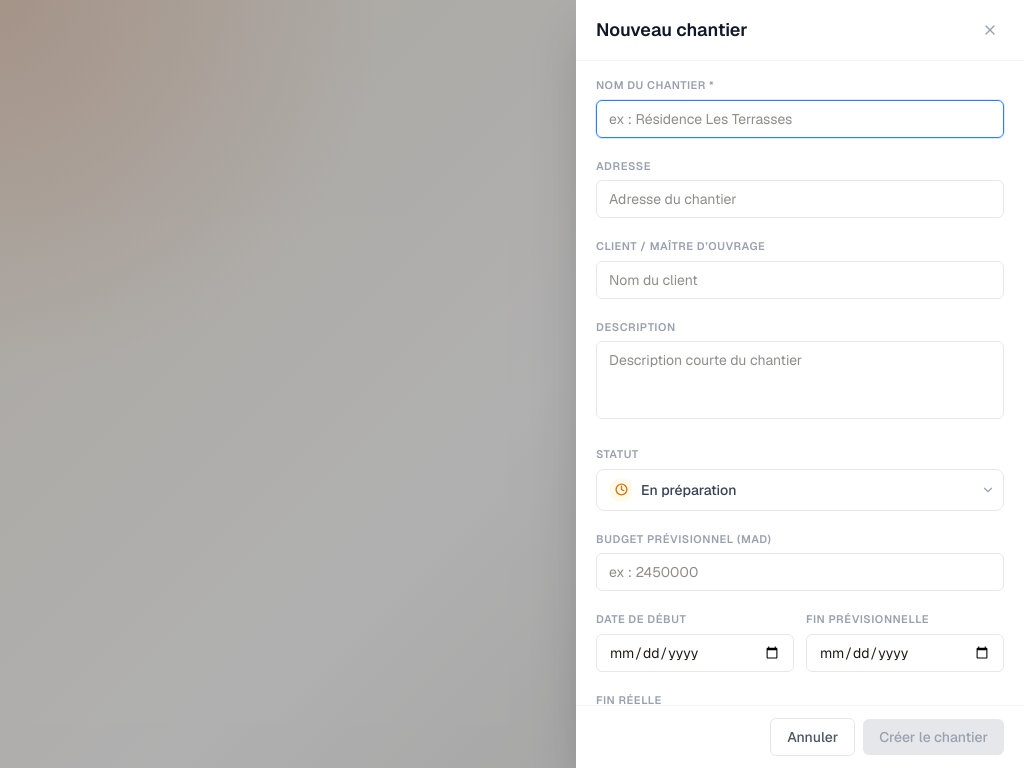
Test case: ProjectHubFormPanel — error handling › shows a generic message for a non-ApiError failure
The width and height of the screenshot is (1024, 768).
Type "Site" into the field with placeholder "ex : Résidence Les Terrasses" at (800, 118), box [596,100,1004,138]
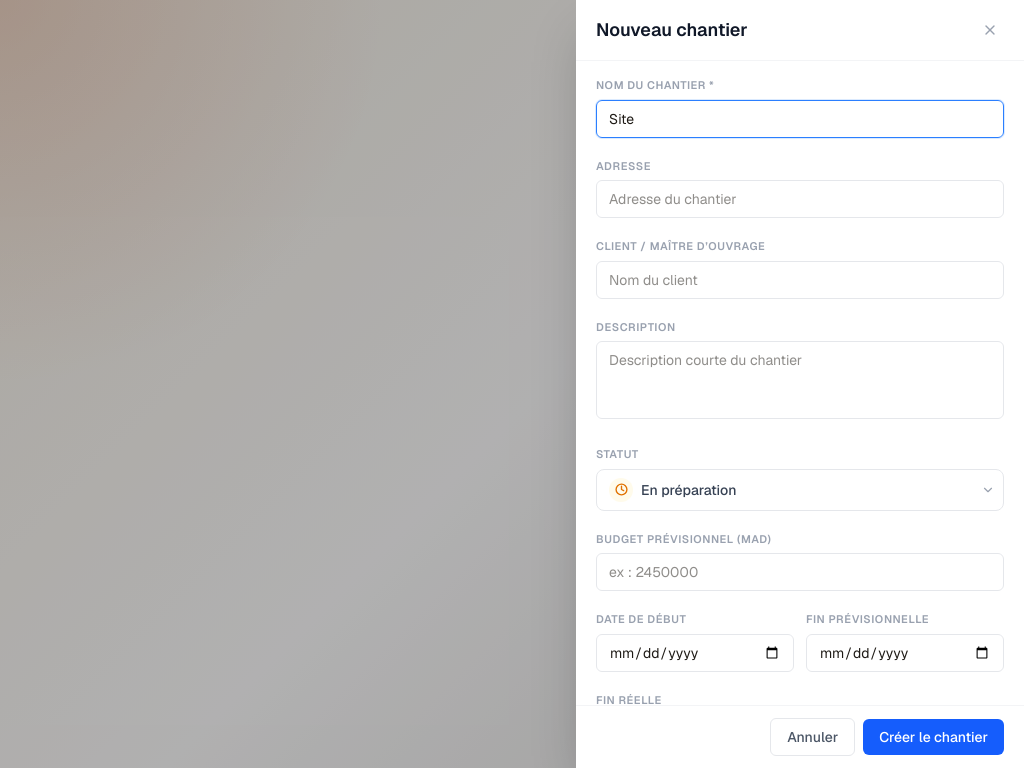
Click the button "Créer le chantier" at (934, 737), box [863,719,1004,755]
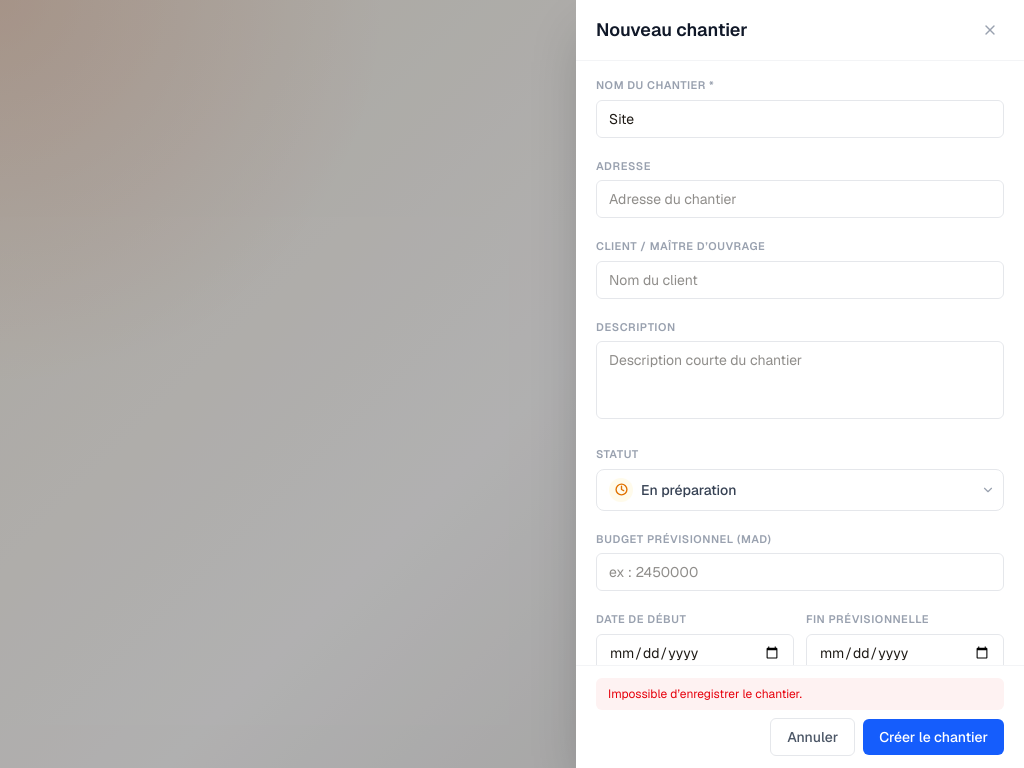
Expected: the text "Impossible d’enregistrer le chantier." is shown, [596,678,1004,710]
